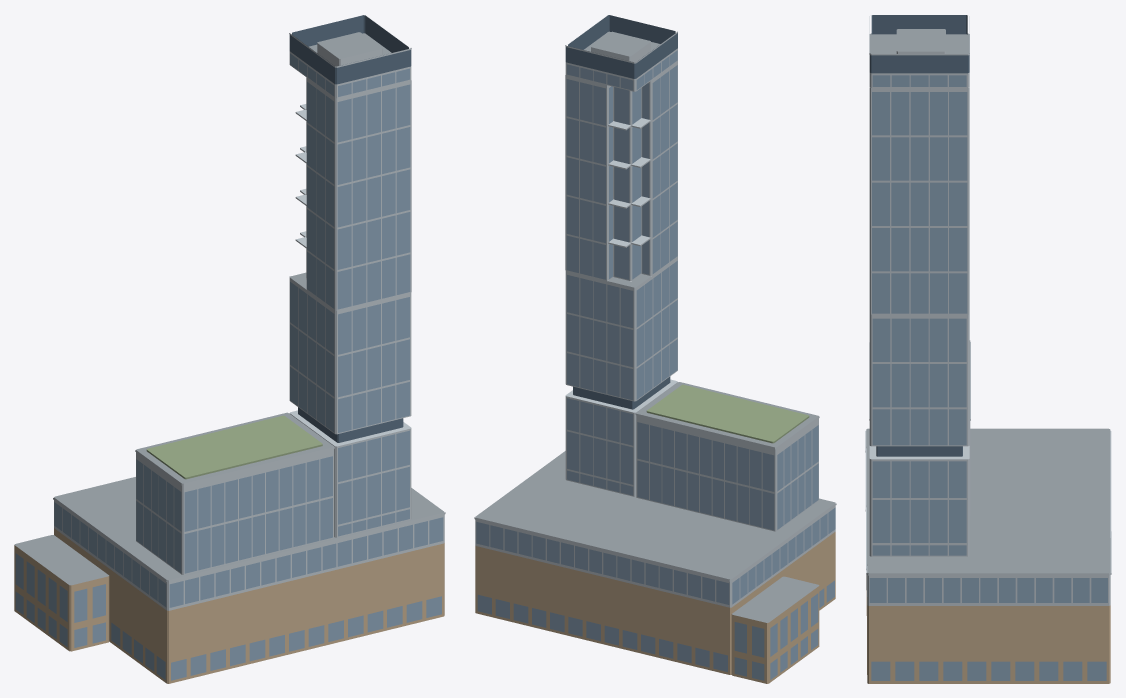
The model's file is nash-four-seasons.glb.
3 renders of one model, left to right at view 1: azimuth 30°, elevation 25°; view 2: azimuth 150°, elevation 25°; view 3: azimuth 270°, elevation 25°, orthographic. The views are drawn at different scales.
Parts seen in each view (by area): view 1: Four Seasons Hotel and Private Residences Nashville; view 2: Four Seasons Hotel and Private Residences Nashville; view 3: Four Seasons Hotel and Private Residences Nashville.
Boxes of the visible parts, x1,y1,x2,y2 form: Four Seasons Hotel and Private Residences Nashville: (14, 15, 445, 683); Four Seasons Hotel and Private Residences Nashville: (474, 15, 836, 683); Four Seasons Hotel and Private Residences Nashville: (865, 15, 1111, 683).
Size of the model in its own units: 95.9 by 165 by 60.1.
